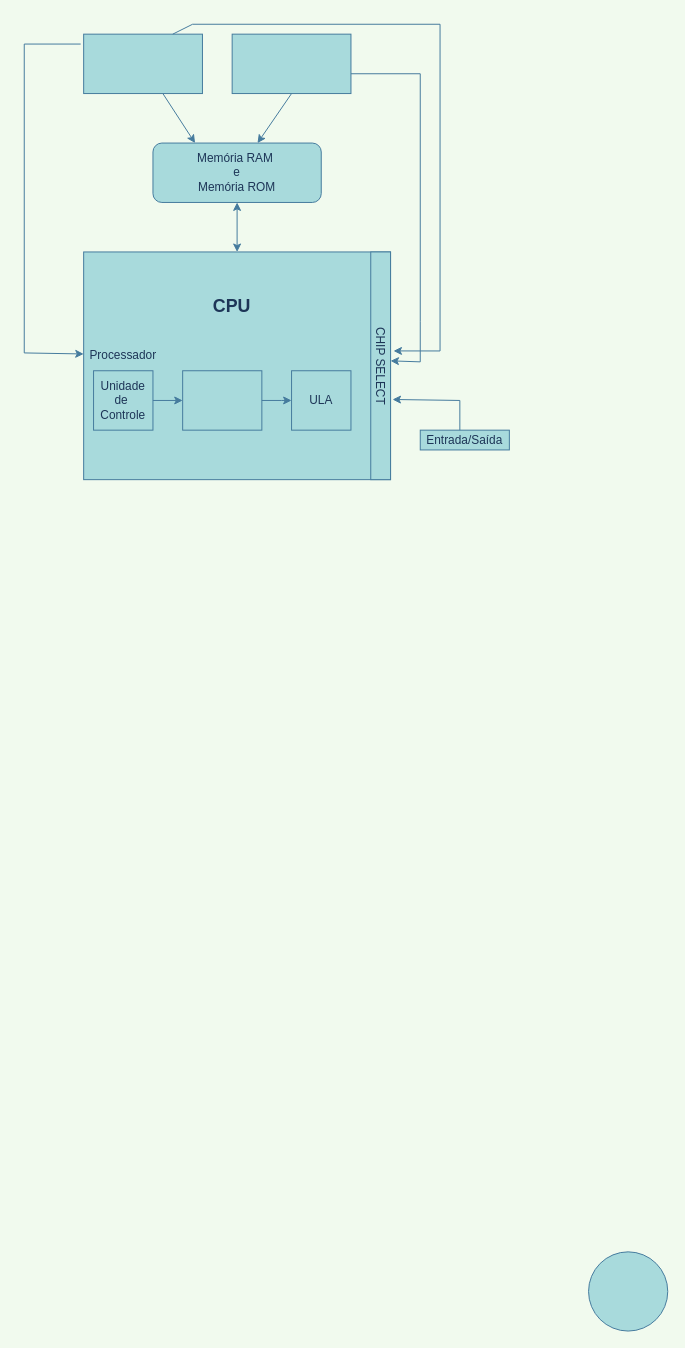
Some shapes in this 685 by 1348 pixel diagram are drawn without their labels. The shapes that lost their labels are listed below. From the top down, each one's centre as x and y in pixels, then its label:
At [142,63]: "ADDRESS BUS".
At [291,63]: "DATA BUS".
At [222,400]: "Registradores".
